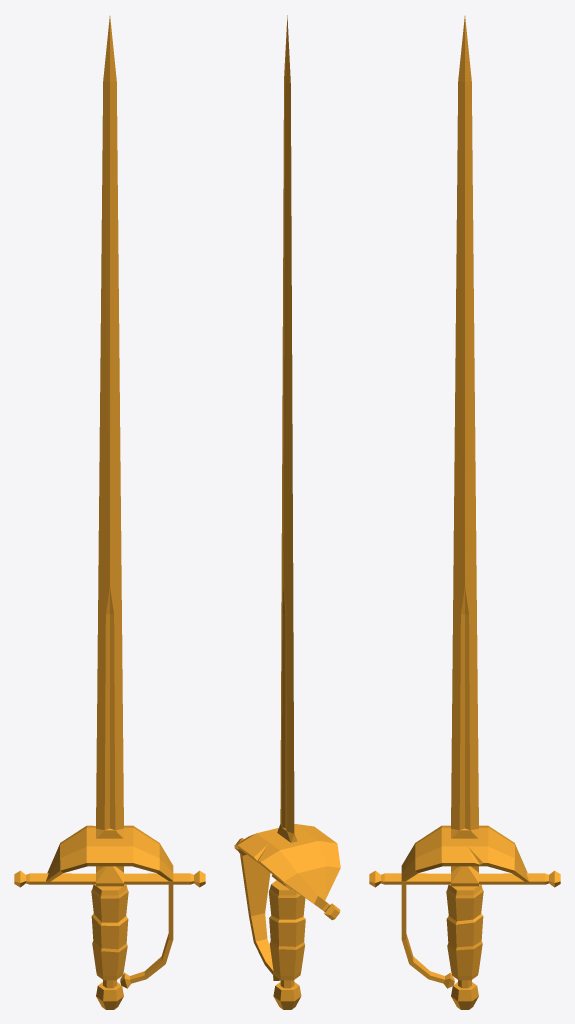
The model's file is SM_Rapier_A_Fantasy.fbx.
3 views of the same model, side by side, from view 1: azimuth 90°, elevation 25°; view 2: azimuth 210°, elevation 25°; view 3: azimuth 270°, elevation 25° (orthographic).
Visible parts, largest first — view 1: rapier-a-fantasy; view 2: rapier-a-fantasy; view 3: rapier-a-fantasy.
Boxes of the visible parts, box(x1,y1,x2,y2) form: rapier-a-fantasy: box(14, 16, 205, 1009); rapier-a-fantasy: box(234, 15, 340, 1009); rapier-a-fantasy: box(369, 16, 560, 1009).
Bounding box in the file's own units: 0.0985 × 1.22 × 0.2122.
